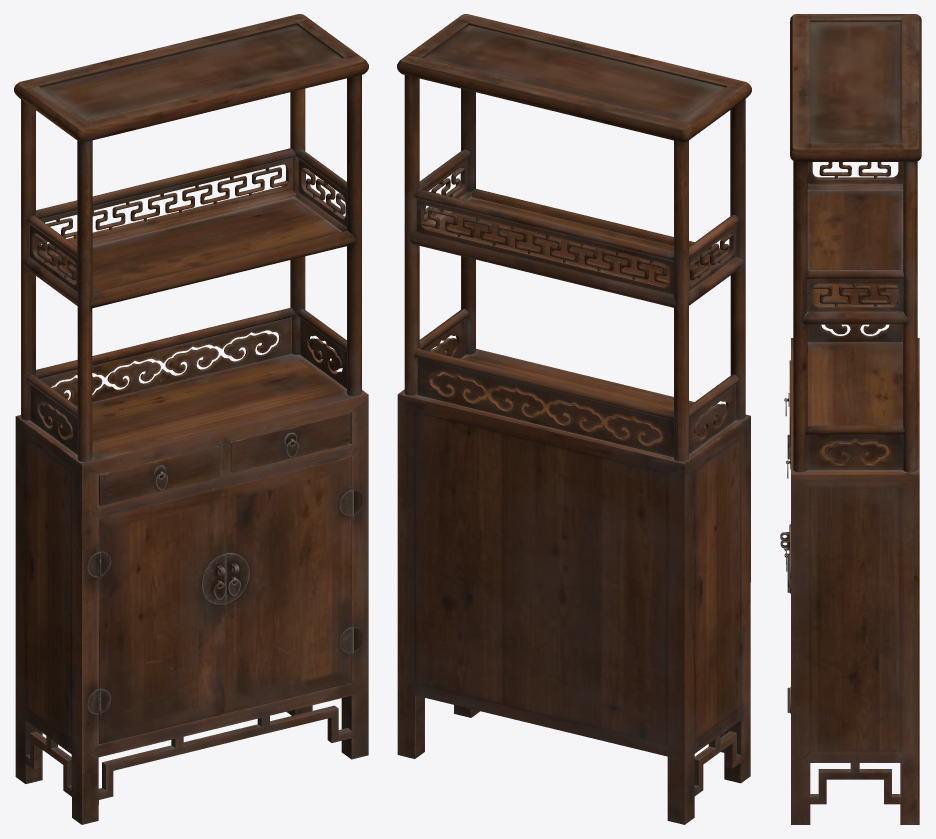
The model's file is chinese_cabinet.glb.
3 renders of one model, left to right at view 1: azimuth 30°, elevation 25°; view 2: azimuth 150°, elevation 25°; view 3: azimuth 270°, elevation 25°, orthographic. The views are drawn at different scales.
Visible parts, largest first — view 1: chinese_cabinet; view 2: chinese_cabinet; view 3: chinese_cabinet.
Part boxes in pixels (x1,y1,x2,y2): chinese_cabinet: [14, 14, 368, 824]; chinese_cabinet: [397, 14, 751, 824]; chinese_cabinet: [780, 14, 921, 824].
Bounding box in the file's own units: 1.26 × 2.87 × 0.5452.
Materials: 1 (1 with a texture image).
